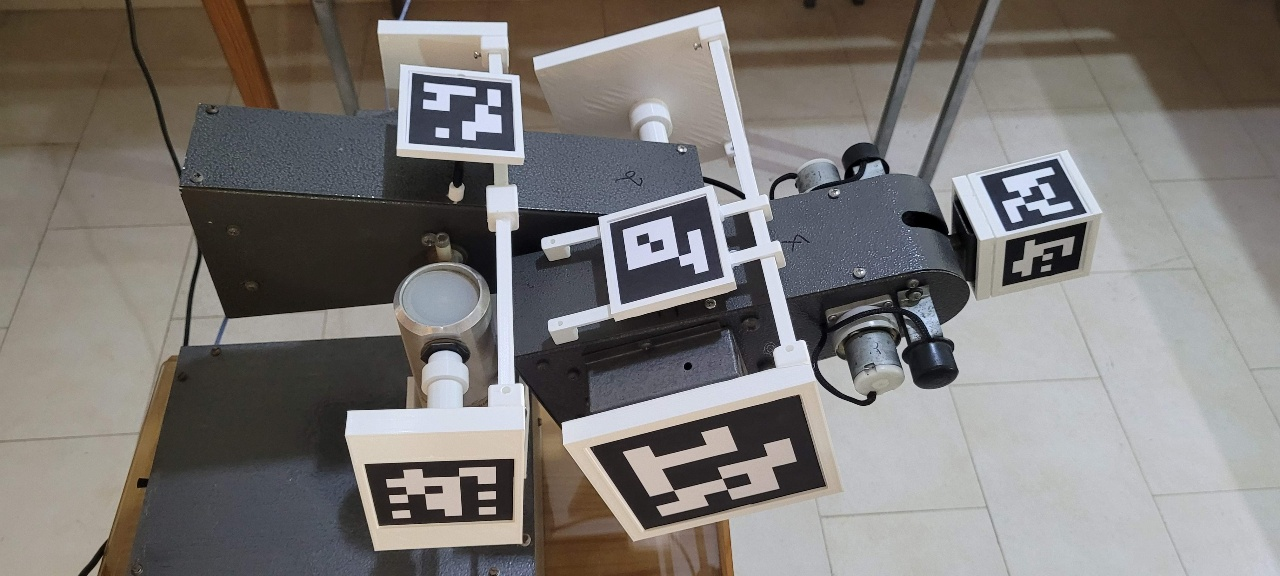Robot: (180, 6, 1106, 553)
